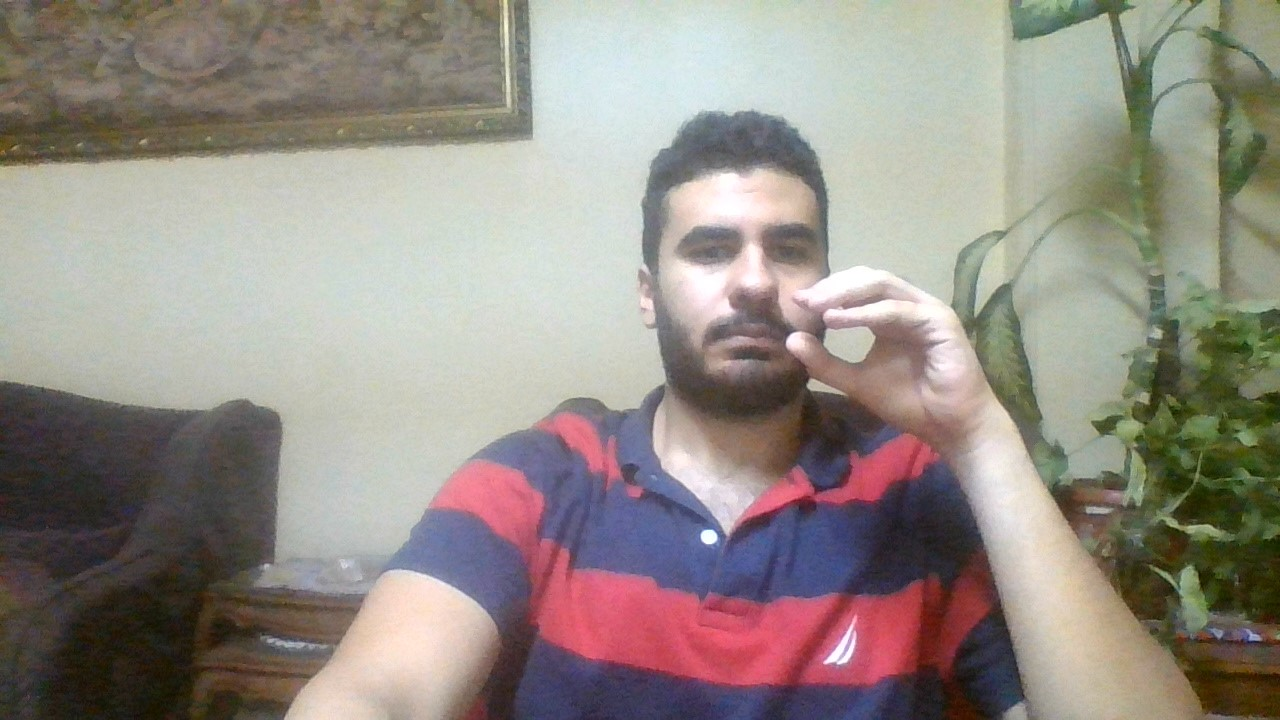drink: (788, 258, 993, 455)
